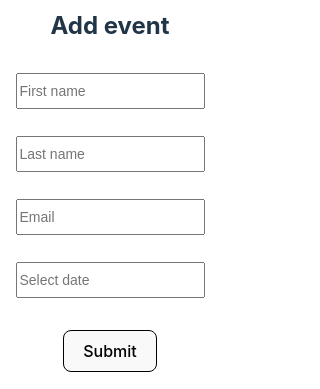
Scenario: Test add event form › with invalid input › should render firstName validation message
Click the button.
click(110, 351)  # box [63,330,157,372]
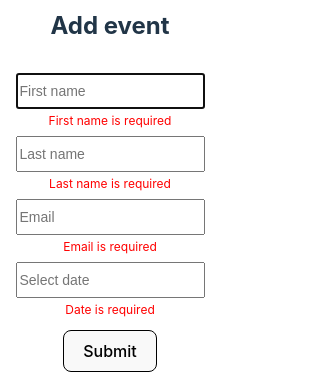
Now the text "First name is required" is shown, box [49,109,171,121]
